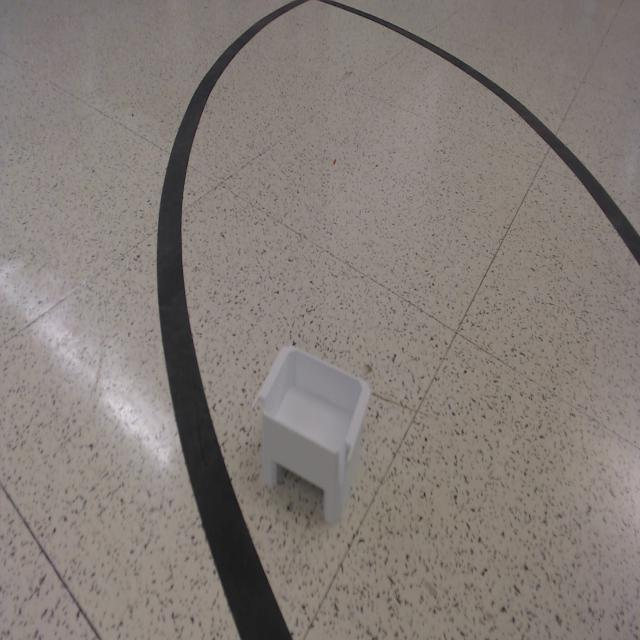wbox: (252, 342, 372, 526)
